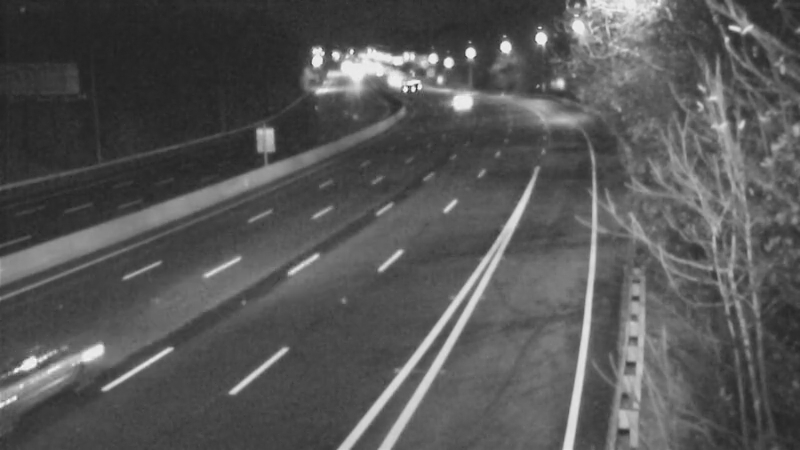vehicle: (382, 59, 432, 109), (431, 77, 481, 127)
